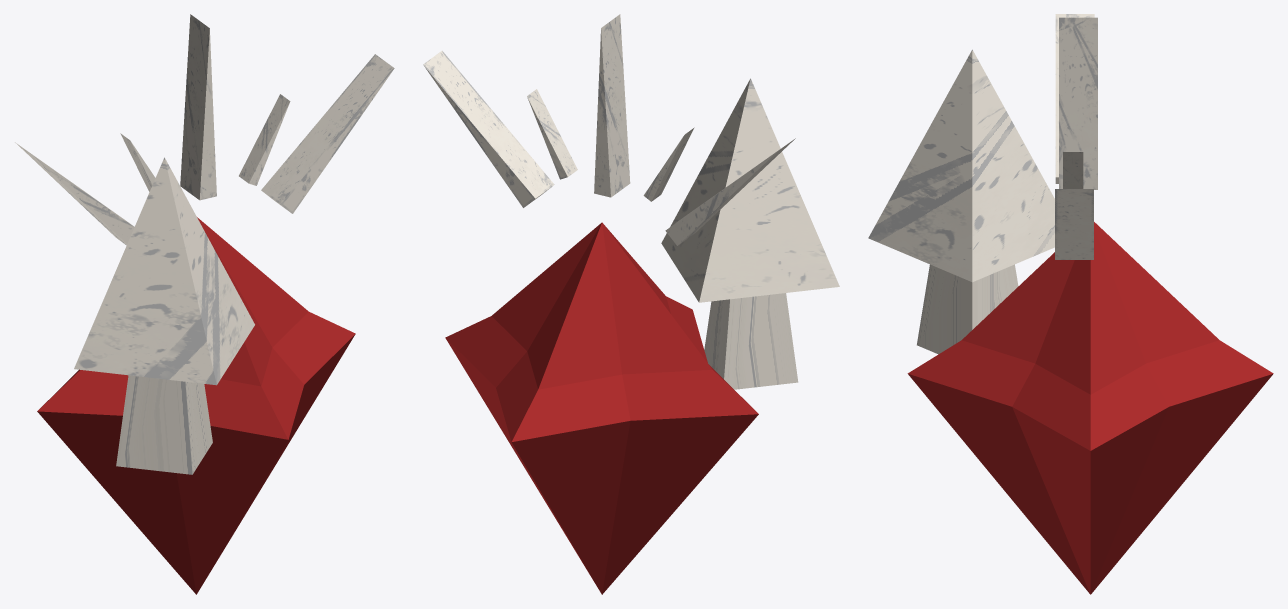
Rendered from upgrade_health.fbx.
The picture shows the model from 3 angles, left to right: view 1: azimuth 30°, elevation 25°; view 2: azimuth 150°, elevation 25°; view 3: azimuth 270°, elevation 25°; orthographic projection.
Visible parts, largest first — view 1: crystal, pCone1, polySurface43, polySurface46, polySurface42, polySurface45, polySurface44; view 2: crystal, pCone1, polySurface43, polySurface46, polySurface42, polySurface45, polySurface44; view 3: crystal, pCone1, polySurface46, polySurface43, polySurface42, polySurface45.
Part boxes in pixels (x1,y1,x2,y2): crystal: [37, 217, 355, 594]; pCone1: [74, 157, 254, 474]; polySurface43: [261, 54, 394, 213]; polySurface46: [180, 14, 216, 200]; polySurface42: [15, 142, 134, 245]; polySurface45: [239, 94, 290, 185]; polySurface44: [120, 133, 155, 191]; crystal: [445, 222, 758, 594]; pCone1: [661, 78, 839, 389]; polySurface43: [423, 50, 554, 207]; polySurface46: [594, 14, 630, 197]; polySurface42: [665, 138, 795, 245]; polySurface45: [527, 89, 577, 179]; polySurface44: [643, 127, 694, 201]; crystal: [907, 222, 1273, 594]; pCone1: [868, 49, 1054, 354]; polySurface46: [1059, 17, 1097, 189]; polySurface43: [1055, 189, 1093, 259]; polySurface42: [1055, 14, 1094, 183]; polySurface45: [1063, 152, 1083, 188].
Bounding box in the file's own units: 2.56 × 3.91 × 2.49.
Materials: 2 (1 with a texture image).
